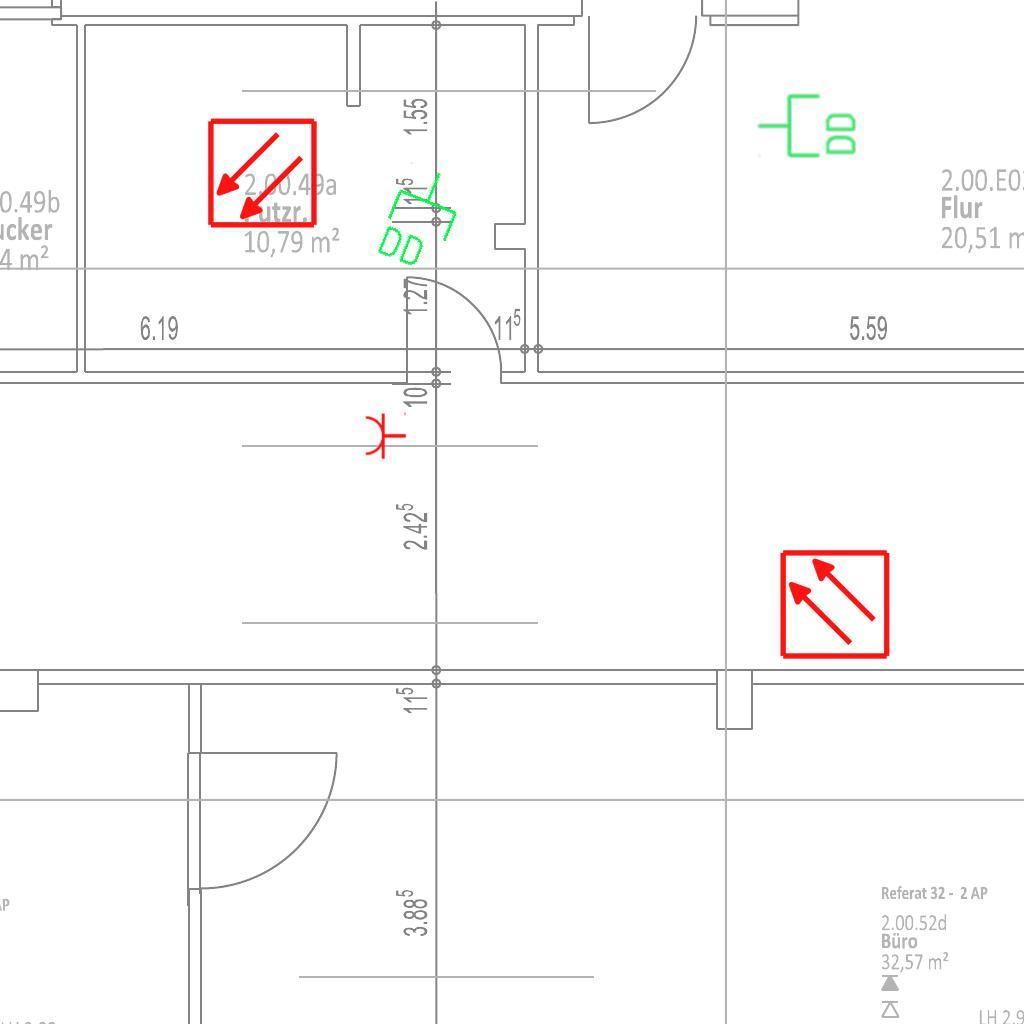Datenanschluss_zweifach: (369, 157, 472, 280), (756, 92, 859, 161)
RMO_Rauchmelder_optischer: (778, 548, 891, 661), (206, 117, 319, 230)
Schukosteckdose_einfach: (364, 410, 407, 460)
